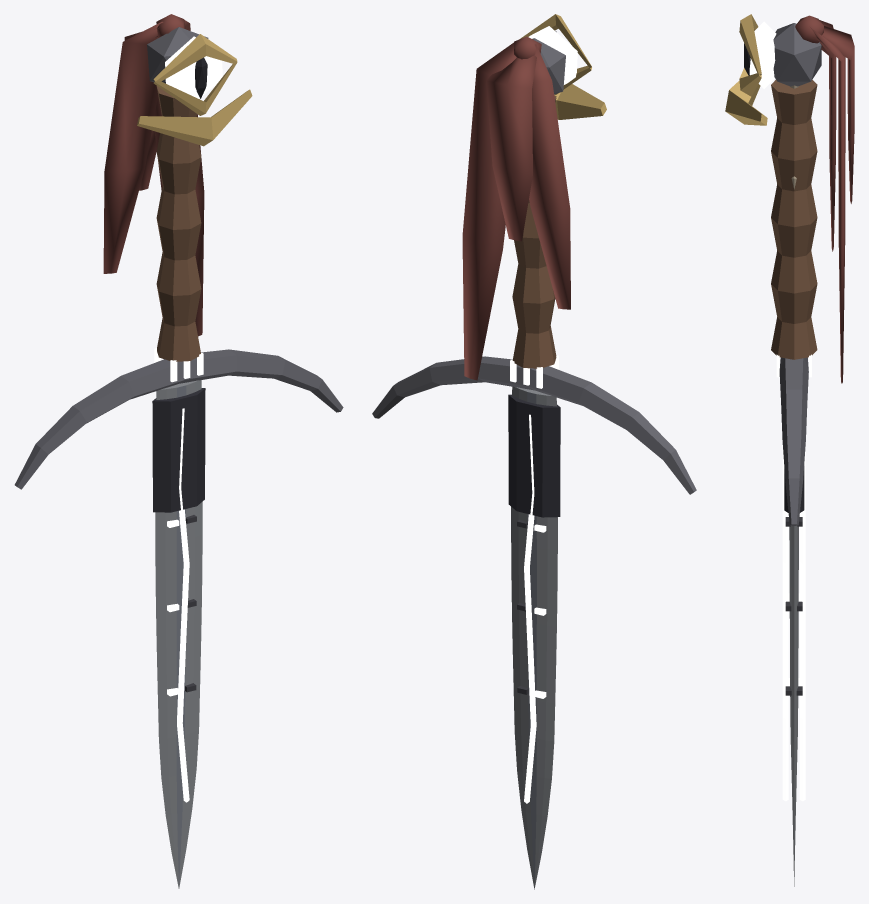
The model's file is blade-heirloom.glb.
3 views of the same model, side by side, from view 1: azimuth 30°, elevation 25°; view 2: azimuth 150°, elevation 25°; view 3: azimuth 270°, elevation 25° (orthographic).
Visible parts, largest first — view 1: blade-heirloom, blink_eye, pulse_vein; view 2: blade-heirloom, pulse_vein, blink_eye; view 3: blade-heirloom, pulse_vein, blink_eye.
Boxes of the visible parts, left/top/right/bottom form: blade-heirloom: left=14, top=14, right=343, bottom=888; blink_eye: left=153, top=34, right=237, bottom=115; pulse_vein: left=177, top=408, right=189, bottom=802; blade-heirloom: left=372, top=36, right=696, bottom=889; pulse_vein: left=524, top=414, right=536, bottom=803; blink_eye: left=519, top=14, right=591, bottom=94; blade-heirloom: left=725, top=15, right=854, bottom=886; pulse_vein: left=782, top=445, right=805, bottom=801; blink_eye: left=739, top=14, right=776, bottom=96.
Bounding box in the file's own units: 0.4916 × 1.25 × 0.1682.
